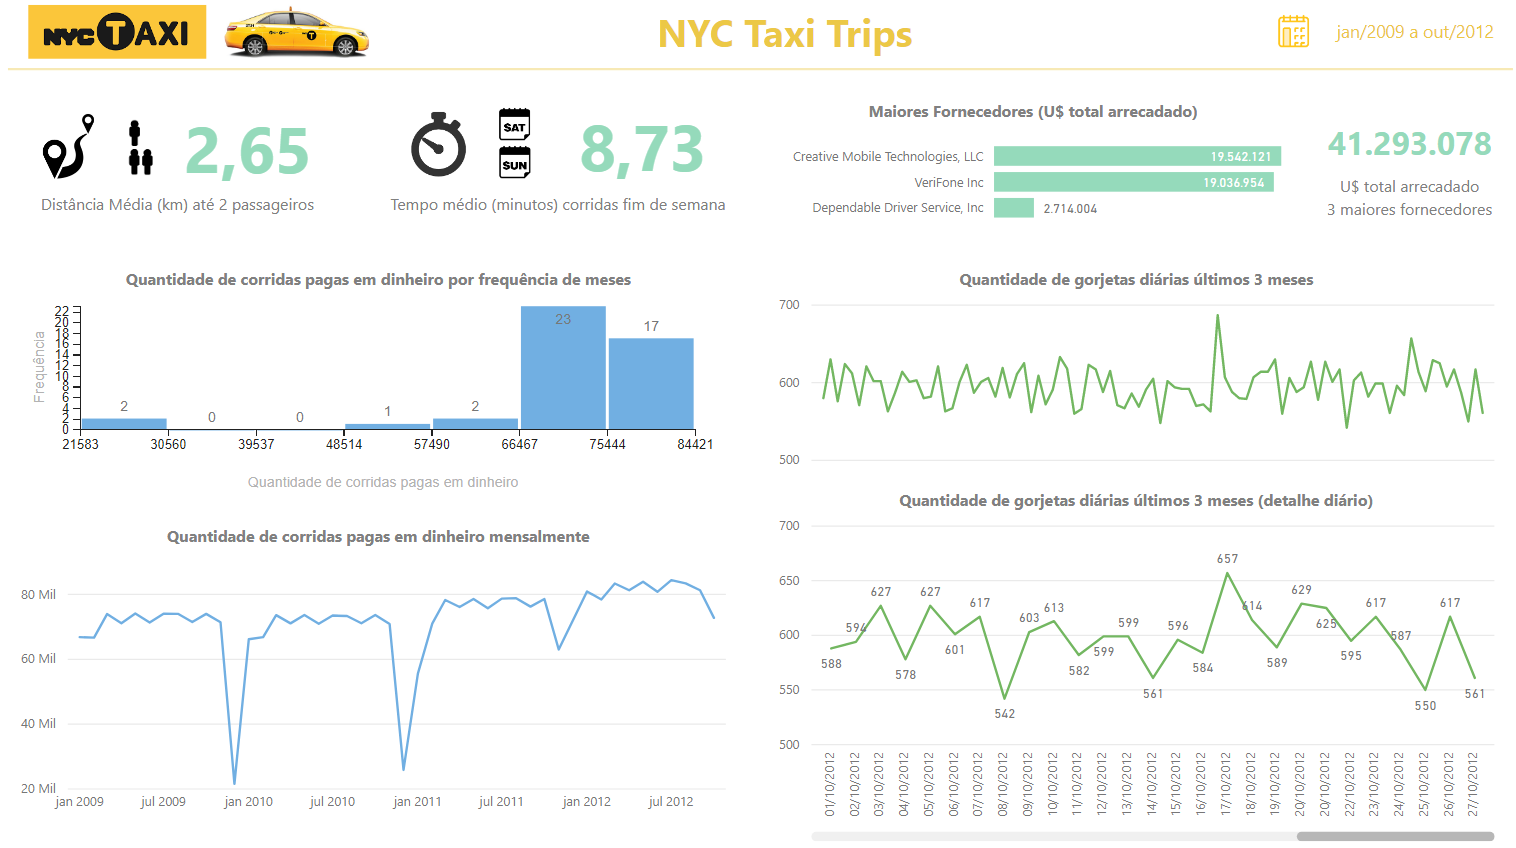

What the dashboard file says about the page in this screenshot:
{"tool":"powerbi","page":{"name":"Geral","canvas":[1280,720],"ordinal":0},"visuals":[{"type":"image","box":[9.7,0,182.4,55],"z":0},{"type":"basicShape","box":[0,50,1280,16.9],"z":1000},{"type":"image","box":[27.8,91.2,64.8,63.7],"z":2000},{"type":"card","title":"Distância média","fields":{"Values":["Sum(nyctaxi-distanciamedia.average_distance)"]},"box":[140,78.9,142,88],"z":3000},{"type":"image","box":[92.6,95.7,59.2,59.2],"z":4000},{"type":"textbox","box":[19,156.9,265,42],"z":5000},{"type":"card","title":"Distância média","fields":{"Values":["Sum(nyctaxi-tempomedio.average_time)"]},"box":[470.1,77.2,142,88],"z":6000},{"type":"image","box":[326.1,89.2,87,64],"z":7000},{"type":"image","box":[413.1,86.2,43,37],"z":8000},{"type":"image","box":[412.1,118.2,44,37],"z":9000},{"type":"textbox","box":[306.4,156.6,328.2,41.5],"z":10000},{"type":"clusteredBarChart","title":"Maiores Fornecedores (U$ total arrecadado)","fields":{"Category":["nyctaxi-maioresvendors.name"],"Y":["Sum(nyctaxi-maioresvendors.total_amount)"]},"box":[649.7,84.9,437.3,112.9],"z":11000},{"type":"Histogram1445664487616","title":"Quantidade de corridas pagas em dinheiro por frequência de meses","fields":{"Frequency":["CountNonNull(nyctaxi-corridasdinheiro.trips_cash_count)"],"Values":["nyctaxi-corridasdinheiro.trips_cash_count"]},"box":[15,225,610,200],"z":12000},{"type":"lineChart","title":"Quantidade de gorjetas diárias últimos 3 meses","fields":{"Category":["nyctaxi-corridasgorjeta.pickup_date"],"Y":["Sum(nyctaxi-corridasgorjeta.trip_count)"]},"box":[650,224.9,610,174.7],"z":13000},{"type":"lineChart","title":"Quantidade de gorjetas diárias últimos 3 meses (detalhe diário)","fields":{"Category":["nyctaxi-corridasgorjeta.pickup_date"],"Y":["Sum(nyctaxi-corridasgorjeta.trip_count)"]},"box":[650,410,610,300],"z":14000},{"type":"lineChart","title":"Quantidade de corridas pagas em dinheiro mensalmente","fields":{"Y":["Sum(nyctaxi-corridasdinheiro.trips_cash_count)"],"Category":["nyctaxi-corridasdinheiro.pickup_year_month"]},"box":[15,440,610,250],"z":15000},{"type":"card","title":"Distância média","fields":{"Values":["Sum(nyctaxi-maioresvendors.total_amount)"]},"box":[1097.6,94.6,171.8,53.1],"z":15001},{"type":"textbox","box":[1097.6,141.9,171.8,50.2],"z":15002},{"type":"textbox","box":[496.2,0,328.2,55],"z":15003},{"type":"card","fields":{"Values":["nyctaxi-corridasdinheiro.Período"]},"box":[1106.9,8.6,162.6,41.8],"z":15004},{"type":"image","box":[1065.1,8.6,42.8,37.1],"z":15005},{"type":"image","box":[178.3,0,148.2,55.3],"z":15006}]}

Visuals, with their boxes in screenshot pixels (x1, y1, x2, y2), scaled from the page's 1280x720 canvas onto the 1516x848 screenshot:
image: bbox=(11, 0, 228, 65)
basicShape: bbox=(0, 59, 1515, 79)
image: bbox=(33, 107, 110, 182)
"Distância média" card: bbox=(166, 93, 334, 197)
image: bbox=(110, 113, 180, 182)
textbox: bbox=(23, 185, 336, 234)
"Distância média" card: bbox=(557, 91, 725, 195)
image: bbox=(386, 105, 489, 180)
image: bbox=(489, 102, 540, 145)
image: bbox=(488, 139, 540, 183)
textbox: bbox=(363, 184, 752, 233)
"Maiores Fornecedores (U$ total arrecadado)" clusteredBarChart: bbox=(769, 100, 1287, 233)
"Quantidade de corridas pagas em dinheiro por frequência de meses" Histogram1445664487616: bbox=(18, 265, 740, 501)
"Quantidade de gorjetas diárias últimos 3 meses" lineChart: bbox=(770, 265, 1492, 471)
"Quantidade de gorjetas diárias últimos 3 meses (detalhe diário)" lineChart: bbox=(770, 483, 1492, 836)
"Quantidade de corridas pagas em dinheiro mensalmente" lineChart: bbox=(18, 518, 740, 813)
"Distância média" card: bbox=(1300, 111, 1503, 174)
textbox: bbox=(1300, 167, 1503, 226)
textbox: bbox=(588, 0, 976, 65)
card - nyctaxi-corridasdinheiro.Período: bbox=(1311, 10, 1504, 59)
image: bbox=(1261, 10, 1312, 54)
image: bbox=(211, 0, 387, 65)
